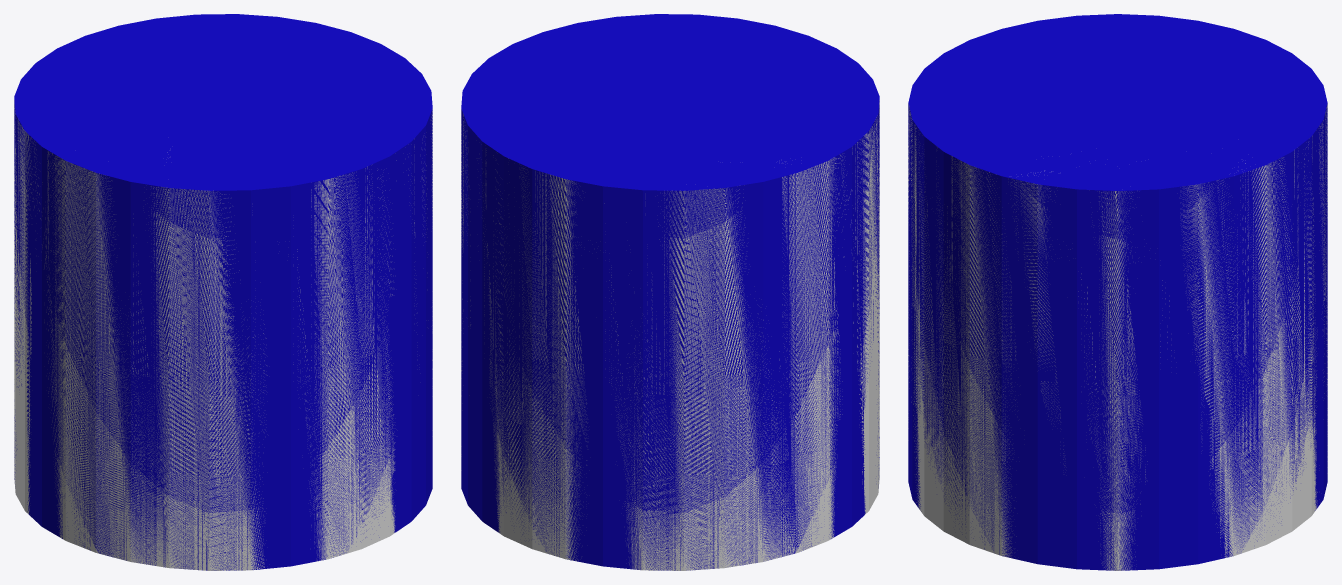
File: BotonTest__.fbx
The picture shows the model from 3 angles, left to right: view 1: azimuth 30°, elevation 25°; view 2: azimuth 150°, elevation 25°; view 3: azimuth 270°, elevation 25°; orthographic projection.
Visible parts, largest first — view 1: Cylinder.003; view 2: Cylinder.003; view 3: Cylinder.003.
Boxes of the visible parts, x1,y1,x2,y2 form: Cylinder.003: (14, 14, 432, 570); Cylinder.003: (461, 14, 879, 570); Cylinder.003: (908, 14, 1327, 570).
Bounding box in the file's own units: 200 × 200 × 200.
